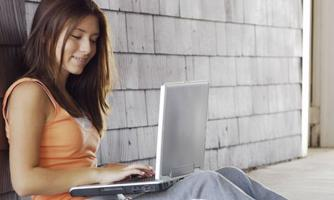person: (2, 1, 293, 200)
